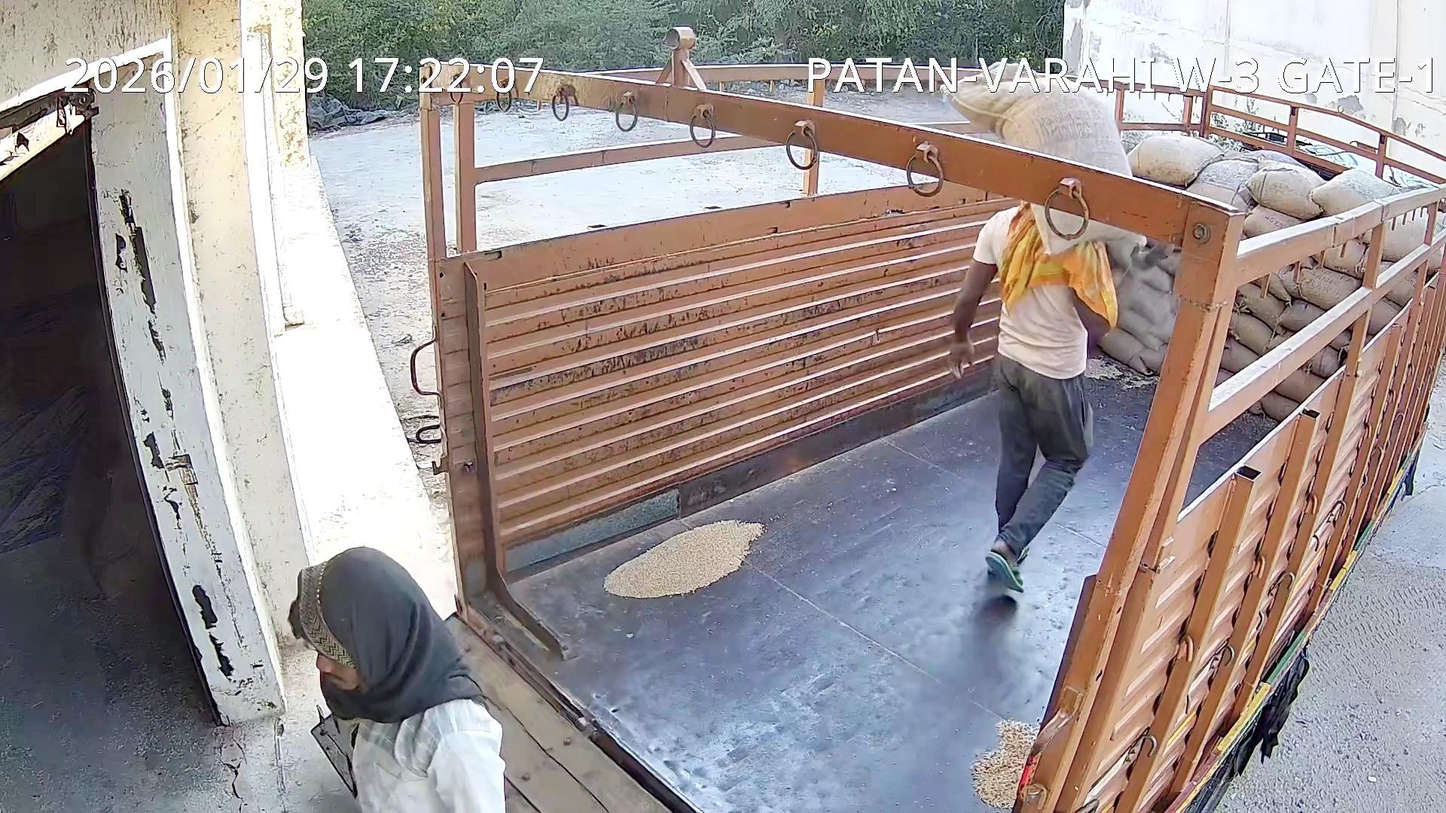Sack: (943, 61, 1131, 175), (1045, 212, 1142, 251)
